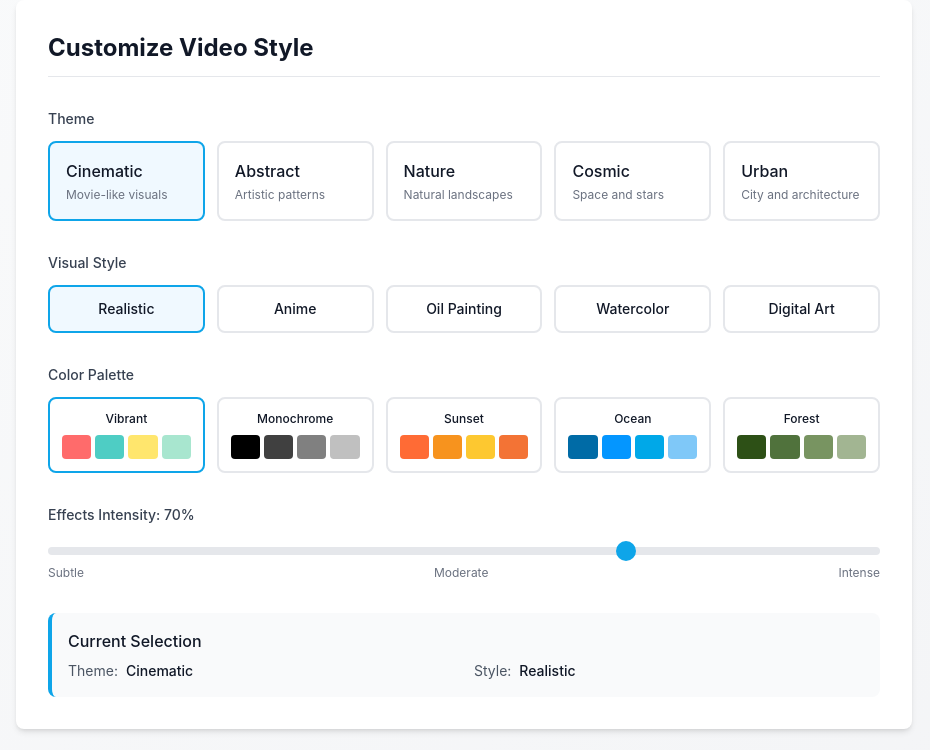
Scenario: StyleCustomizer › updates current selection summary when style changes
Click the button with test id "theme-urban" at point(802, 181), box left=723, top=141, right=880, bottom=221
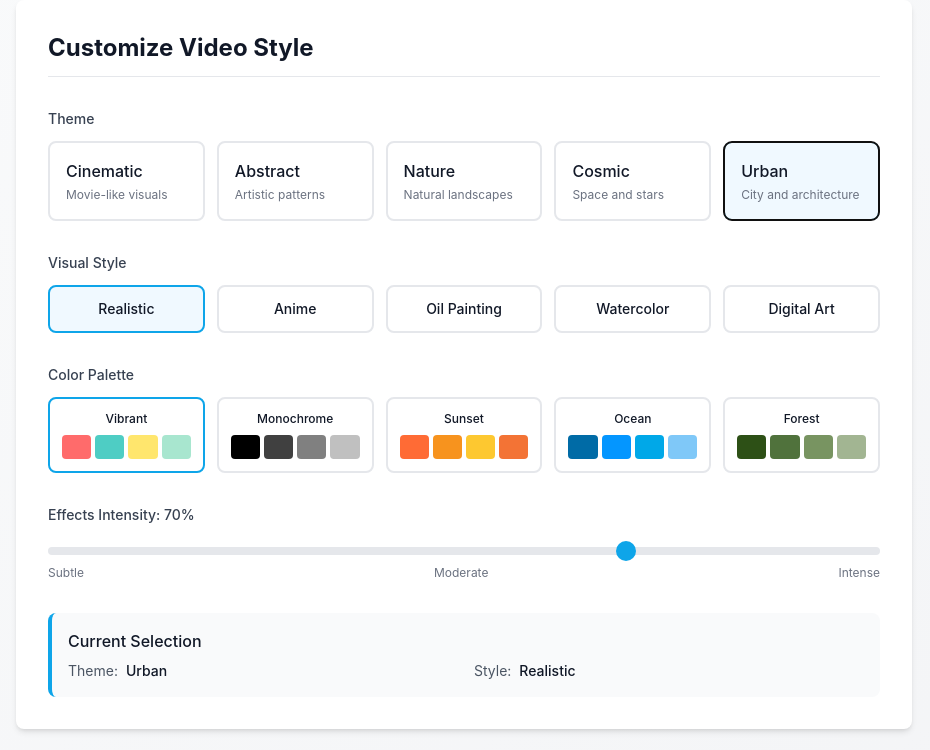
Expected: the text "urban" is shown, left=126, top=662, right=167, bottom=679
